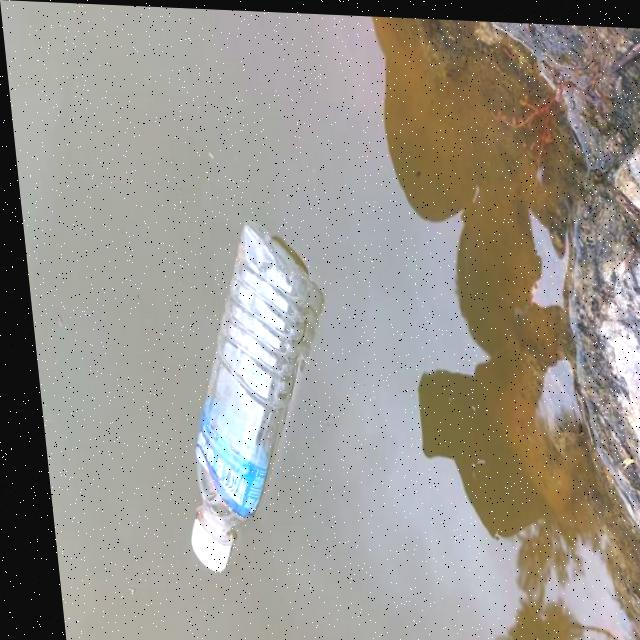waterbottle: (136, 211, 392, 592)
